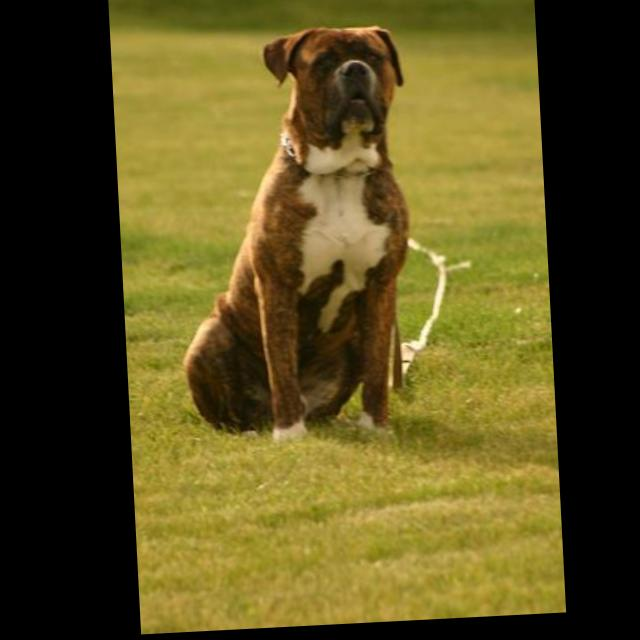bullmastiff: (165, 26, 418, 453)
